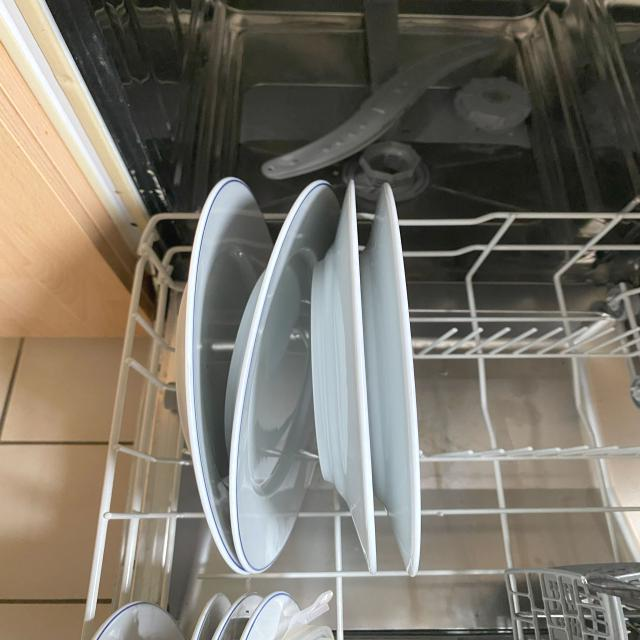empty_slot: (429, 231, 631, 528)
